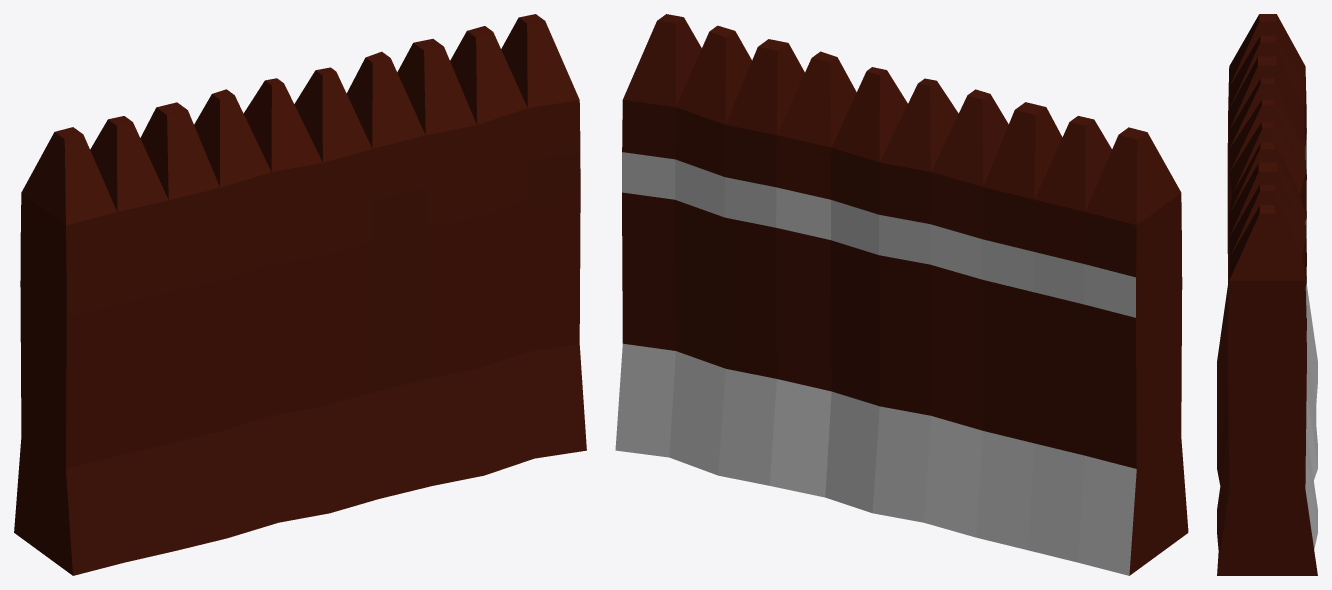
The model's file is wall.obj.
3 views of the same model, side by side, from view 1: azimuth 30°, elevation 25°; view 2: azimuth 150°, elevation 25°; view 3: azimuth 270°, elevation 25° (orthographic). The views are drawn at different scales.
Visible parts, largest first — view 1: wall; view 2: wall; view 3: wall.
Part boxes in pixels (x1=…): wall: x1=14, y1=14, x2=586, y2=575; wall: x1=615, y1=14, x2=1188, y2=575; wall: x1=1217, y1=14, x2=1317, y2=575.
Size of the model in its own units: 1.06 by 0.8257 by 0.2119.
